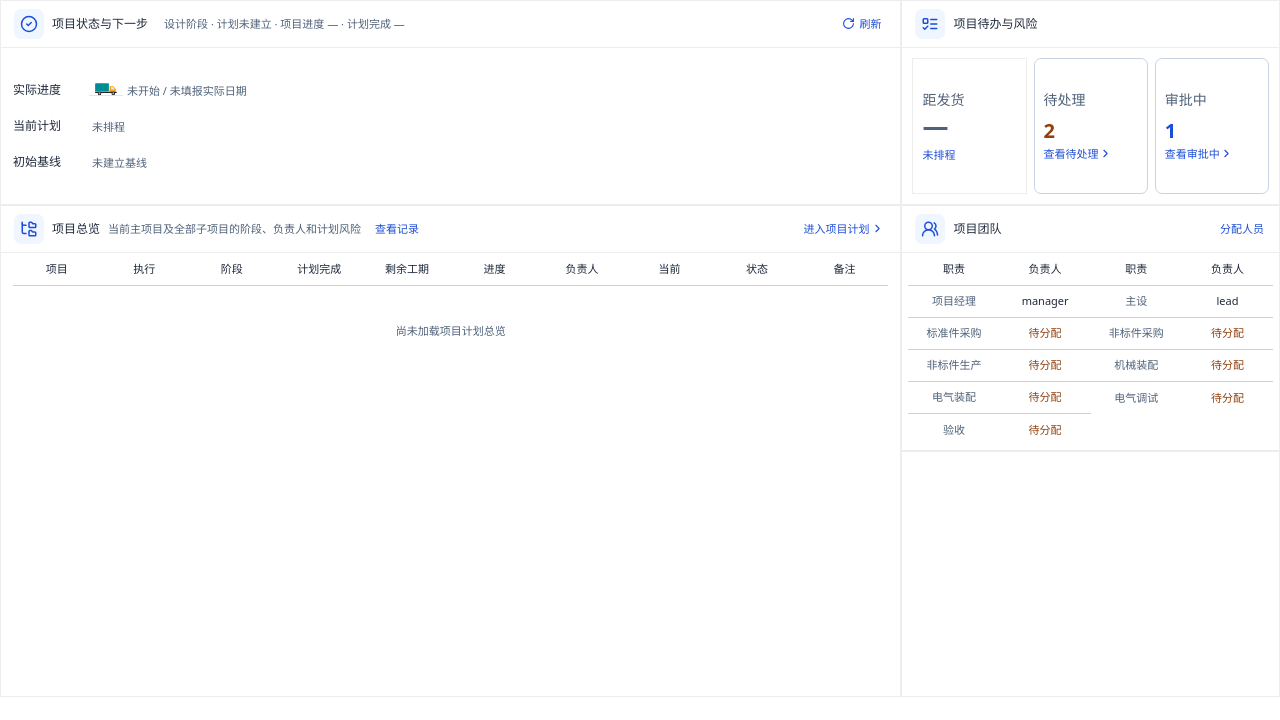
Scenario: WorkbenchHome › 仅可见项目的普通人员可查看记录，计划不可读也不影响，维护和待办表单保持关闭
The width and height of the screenshot is (1280, 720).
Click the button "查看记录" at {"x": 397, "y": 229}, box x1=369 y1=220 x2=425 y2=238
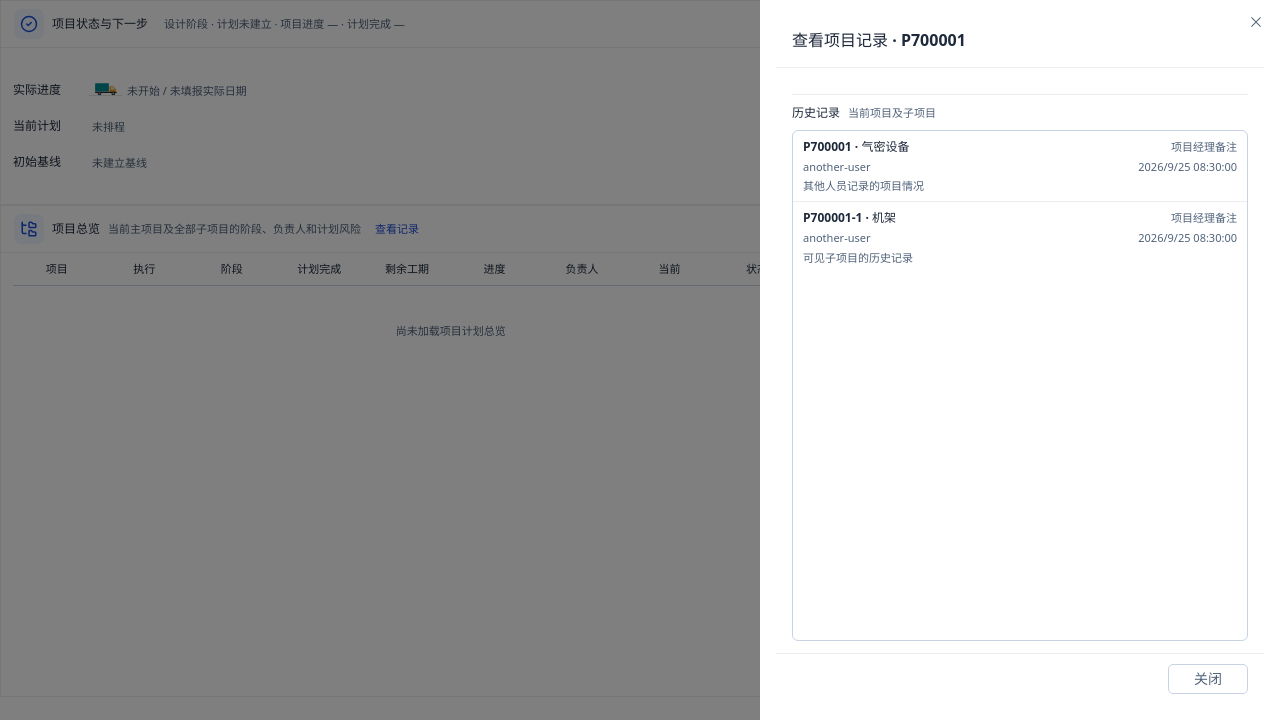
expect the element named "当前项目及子项目历史记录" shows "其他人员记录的项目情况": met, box x1=803 y1=178 x2=924 y2=193
expect the element named "当前项目及子项目历史记录" shows "可见子项目的历史记录": met, box x1=803 y1=250 x2=913 y2=265
